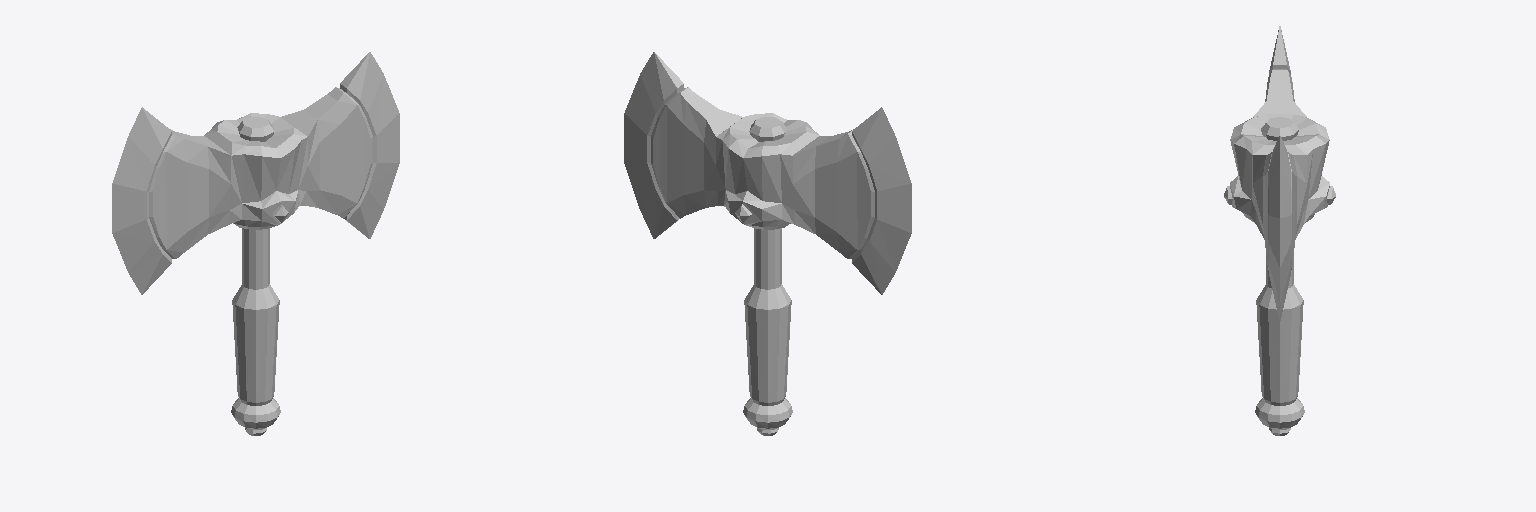
Rendered from axeDouble_rare.obj.
The picture shows the model from 3 angles: view 1: azimuth 30°, elevation 25°; view 2: azimuth 150°, elevation 25°; view 3: azimuth 270°, elevation 25°; orthographic projection.
Visible parts, largest first — view 1: axeDouble_rare_Cube.3832; view 2: axeDouble_rare_Cube.3832; view 3: axeDouble_rare_Cube.3832.
Part boxes in pixels (x1,y1,x2,y2): axeDouble_rare_Cube.3832: (112, 52, 399, 435); axeDouble_rare_Cube.3832: (624, 52, 911, 435); axeDouble_rare_Cube.3832: (1224, 26, 1335, 435).
Bounding box in the file's own units: 0.808 × 0.9504 × 0.2754.